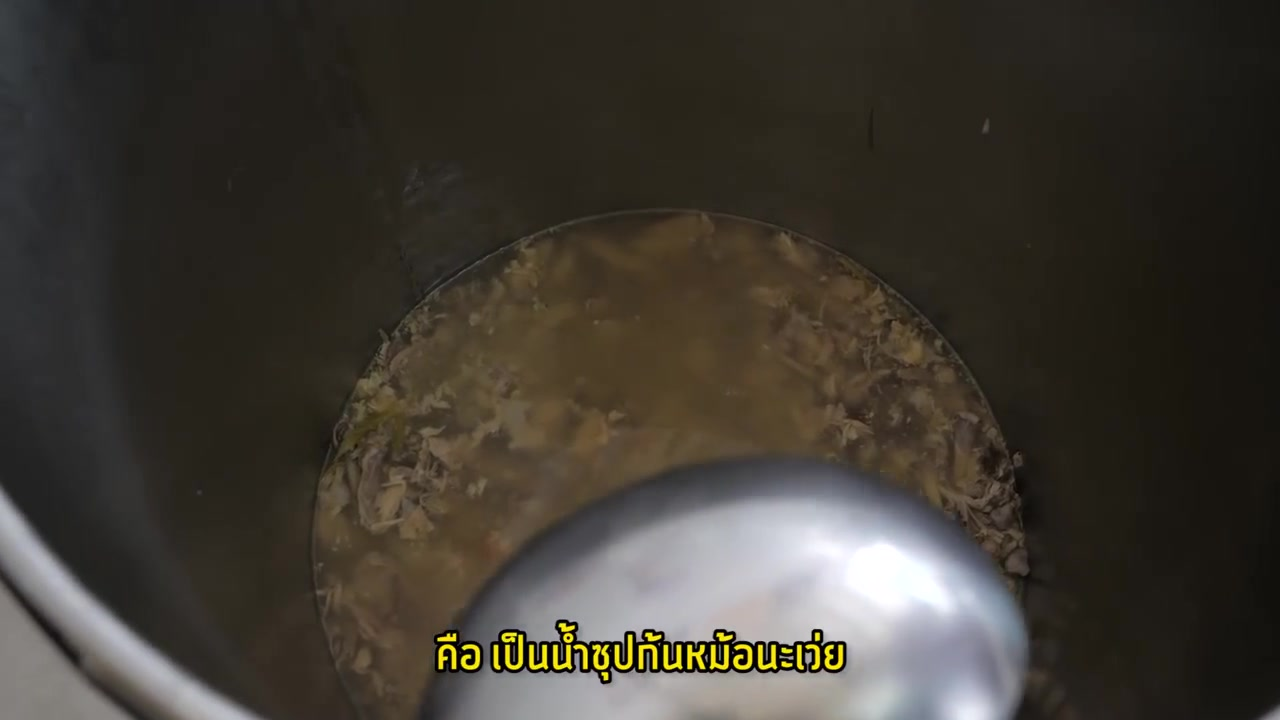text-label: (430, 619, 851, 686)
